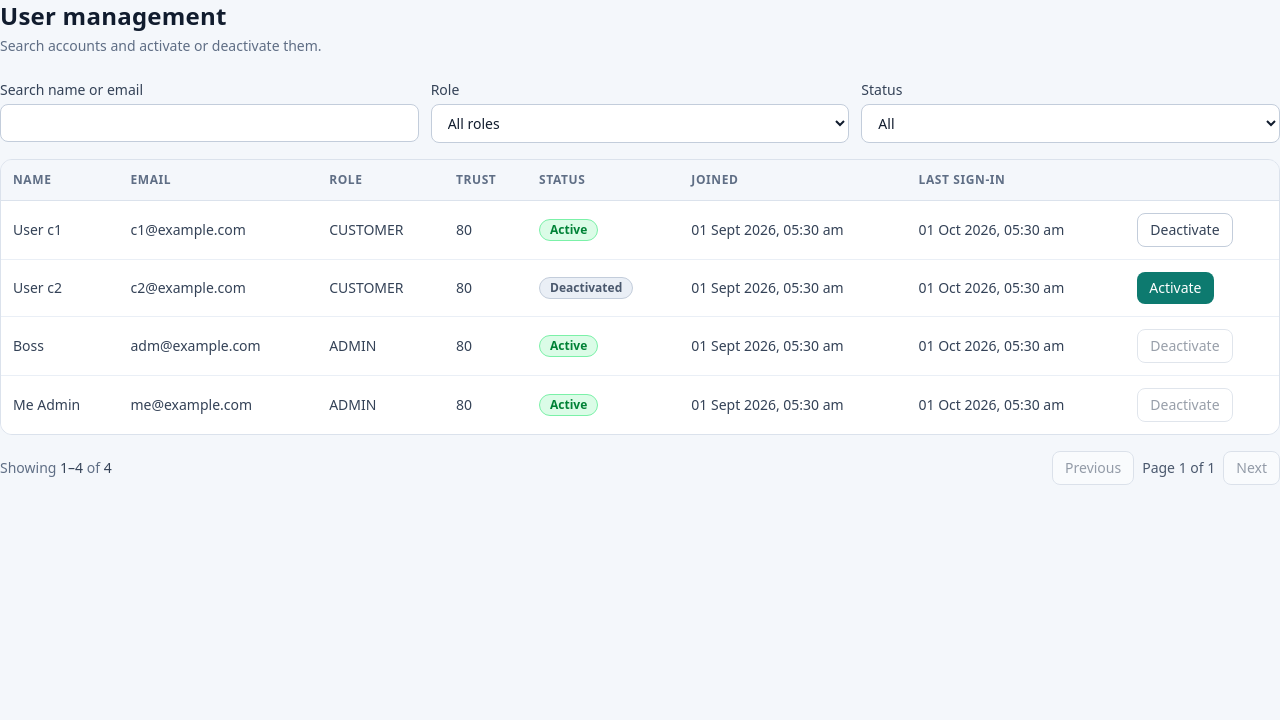
it: UserManagement › a failed toggle keeps the dialog open with the message inside it
The width and height of the screenshot is (1280, 720).
Check: the text "User c1" is shown, box [1,200,118,260]
Click the button "Deactivate" in the row of "User c1". click: (1185, 230)
box: [1137,213,1233,247]
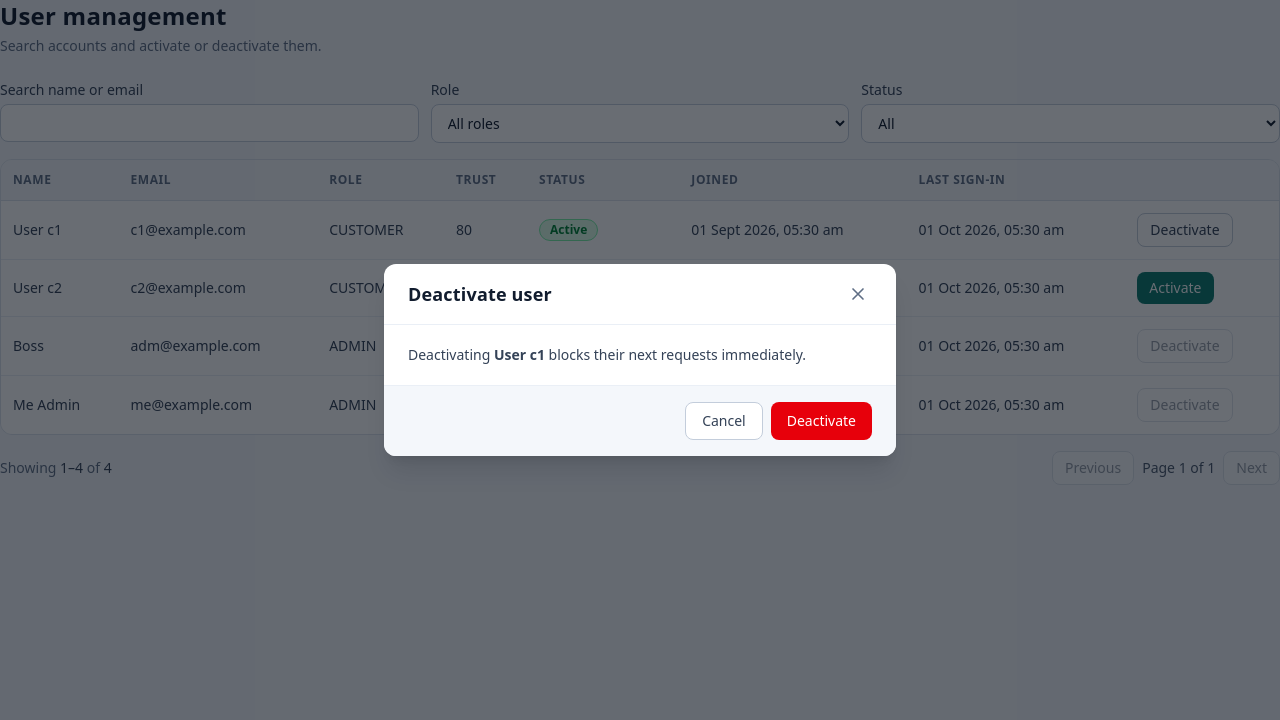
Click the button "Deactivate". click: (821, 421)
box: [771,402,872,440]
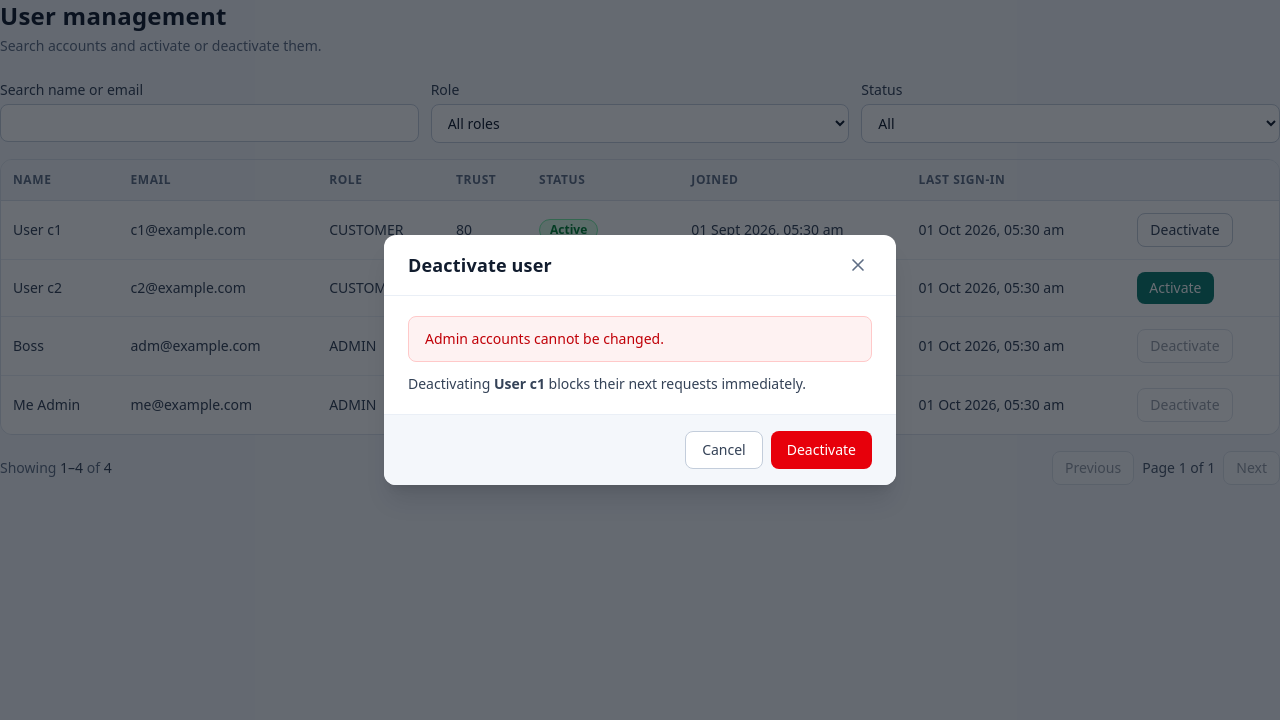
Check: the dialog is shown, box [384,235,896,485]
Check: the text "Admin accounts cannot be changed." is shown, box [408,316,872,362]
